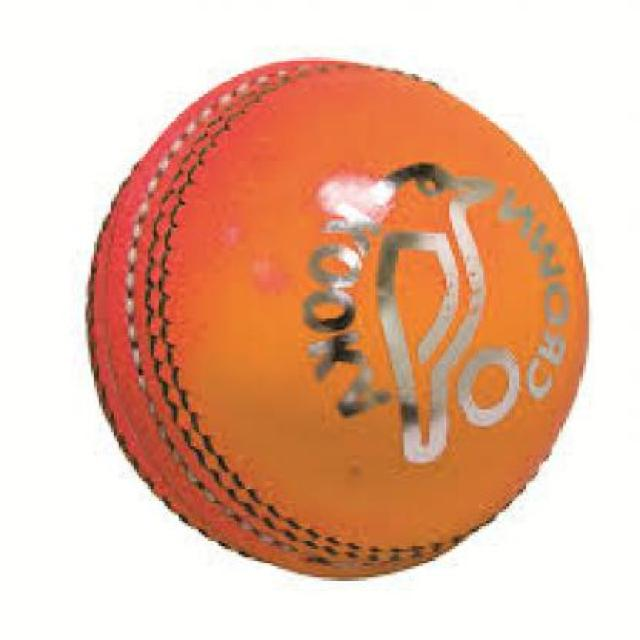ball: (64, 39, 611, 594)
